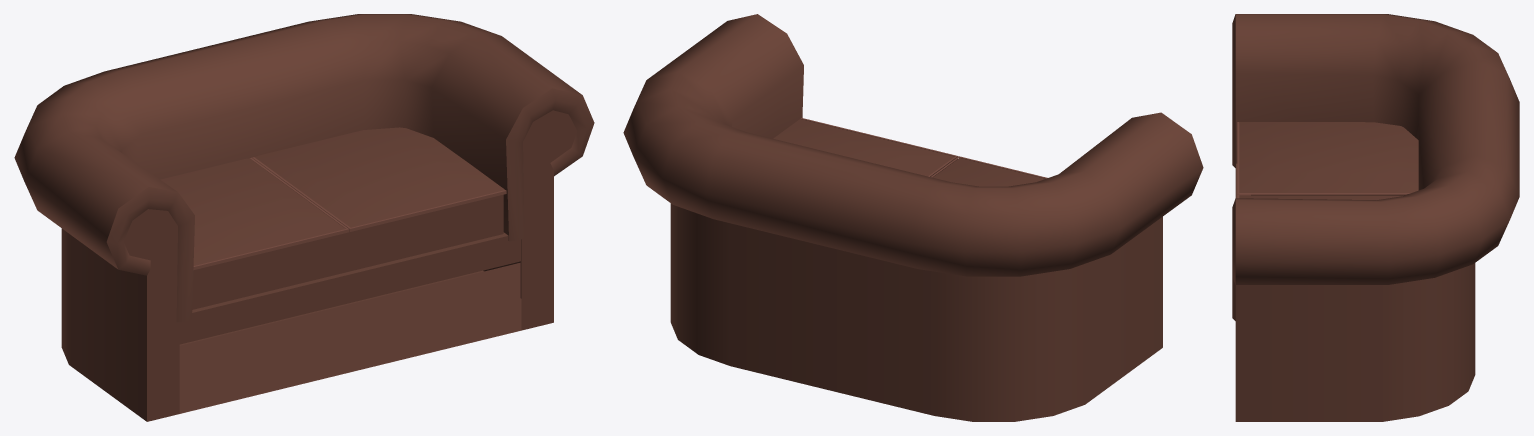
File: sofa_023.glb
3 renders of one model, left to right at view 1: azimuth 30°, elevation 25°; view 2: azimuth 150°, elevation 25°; view 3: azimuth 270°, elevation 25°, orthographic. The views are drawn at different scales.
Visible parts, largest first — view 1: sofa_023; view 2: sofa_023; view 3: sofa_023.
Boxes of the visible parts, x1,y1,x2,y2 form: sofa_023: (14, 14, 594, 421); sofa_023: (623, 14, 1203, 421); sofa_023: (1232, 14, 1519, 421).
Size of the model in its own units: 1.84 by 0.848 by 0.9996.
Materials: 1 (1 with a texture image).
